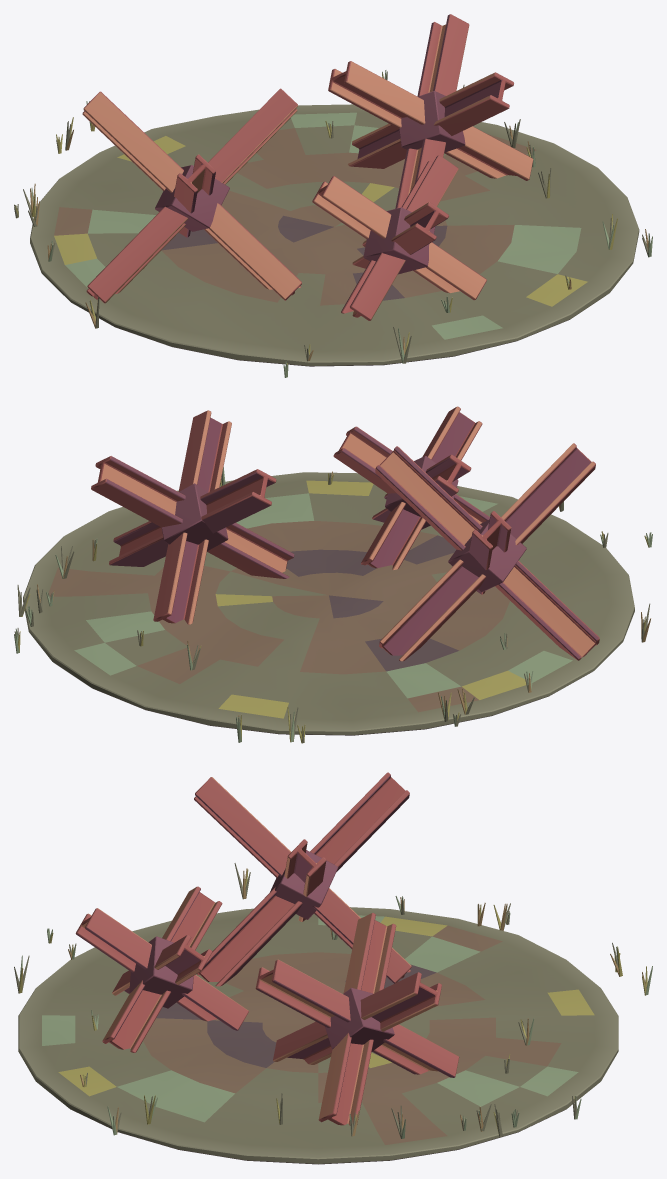
The model's file is anti_tank_obstacles_v1.glb.
3 views of the same model, one above another, from view 1: azimuth 30°, elevation 25°; view 2: azimuth 150°, elevation 25°; view 3: azimuth 270°, elevation 25° (orthographic).
Parts seen in each view (by area): view 1: Body; view 2: Body; view 3: Body.
Boxes of the visible parts, left/top/right/bottom form: Body: left=14, top=14, right=652, bottom=377; Body: left=14, top=406, right=652, bottom=743; Body: left=14, top=772, right=652, bottom=1164.
Size of the model in its own units: 0.8052 by 0.2443 by 0.8186.
